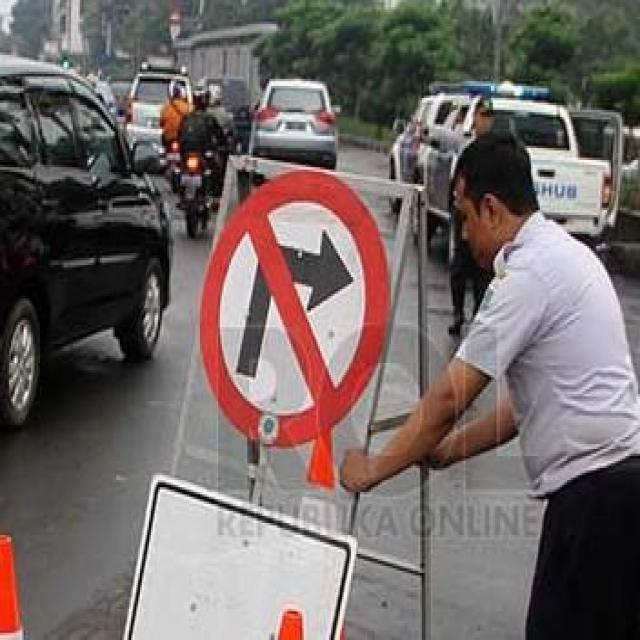do_not_turn_r: (200, 170, 386, 450)
